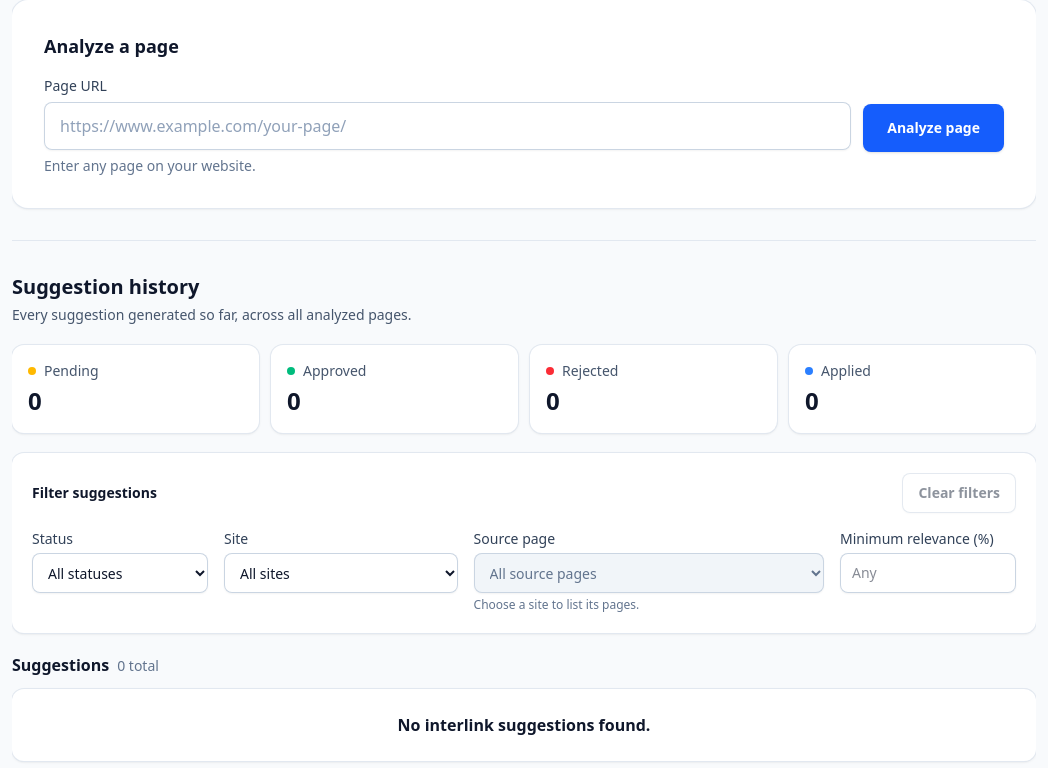
Scenario: analysis results › explains when AI scoring fell back to phrase matching
Type "https://example.test/healthcare-chatbots/" into the field labelled "Page URL" at point(448, 126), box [44,102,851,150]
Then press Enter
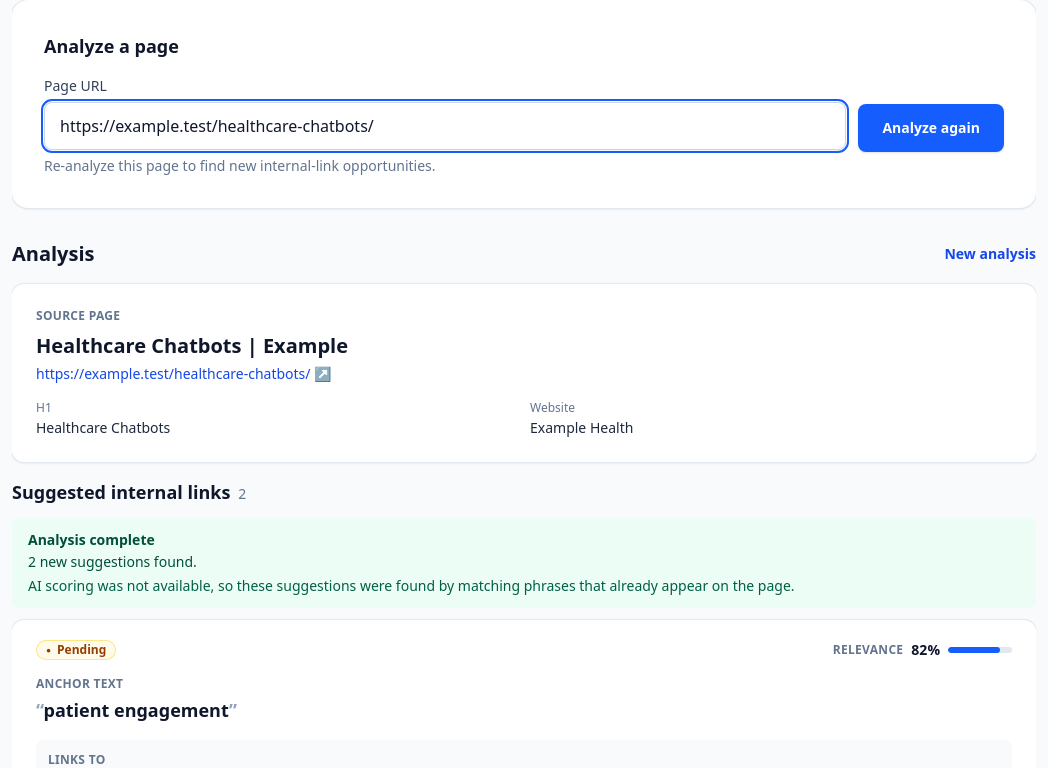
Result: the text "AI scoring was not available" is shown at [28,576,795,595]
